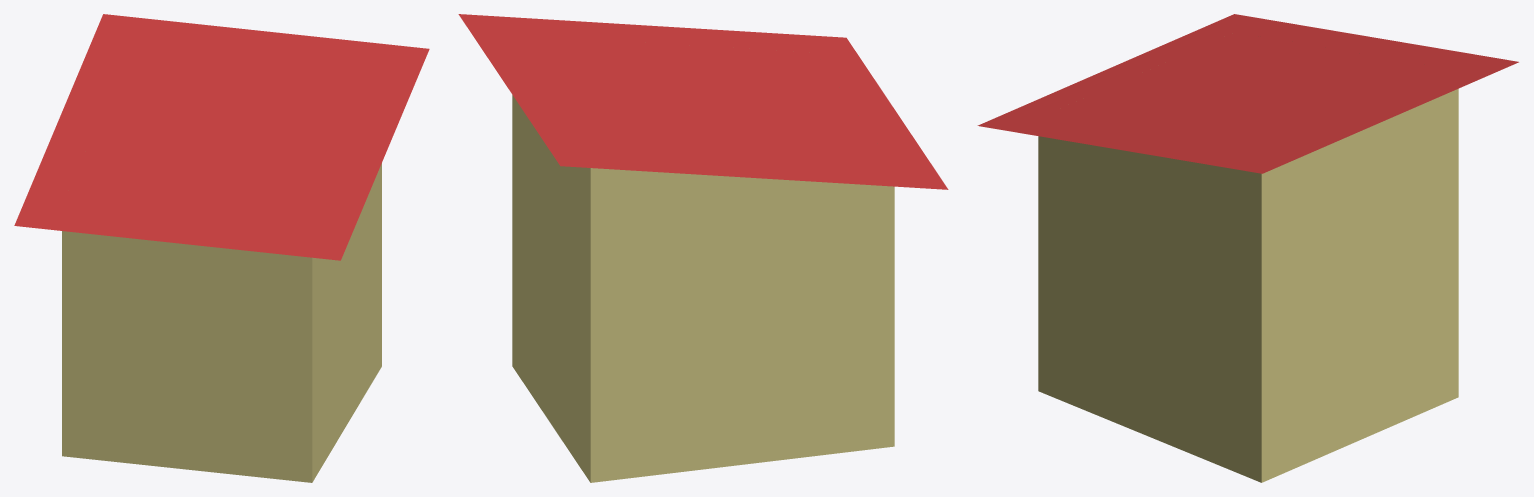
3 views of the same model, side by side, from view 1: azimuth 30°, elevation 25°; view 2: azimuth 150°, elevation 25°; view 3: azimuth 270°, elevation 25° (orthographic). The views are drawn at different scales.
Size of the model in its own units: 12.56 by 12.58 by 8.57.
